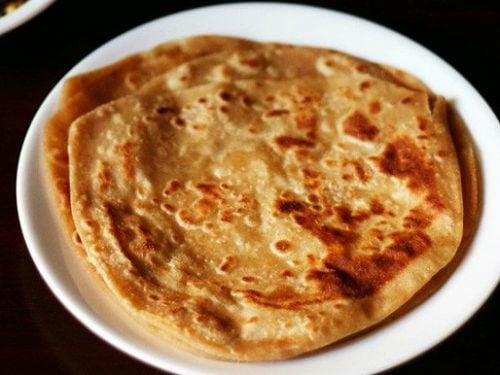paratha: (66, 100, 461, 345), (50, 65, 265, 231)
